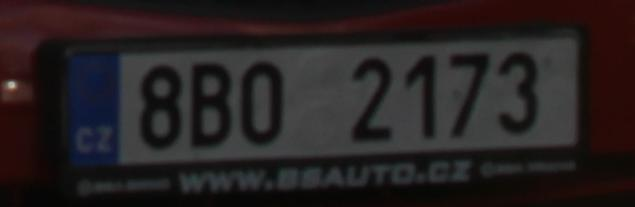0: (241, 61, 285, 144)
1: (405, 54, 438, 139)
2: (351, 57, 391, 139)
3: (498, 52, 540, 133)
7: (449, 52, 487, 135)
8: (138, 63, 181, 150)
B: (192, 61, 232, 147)
